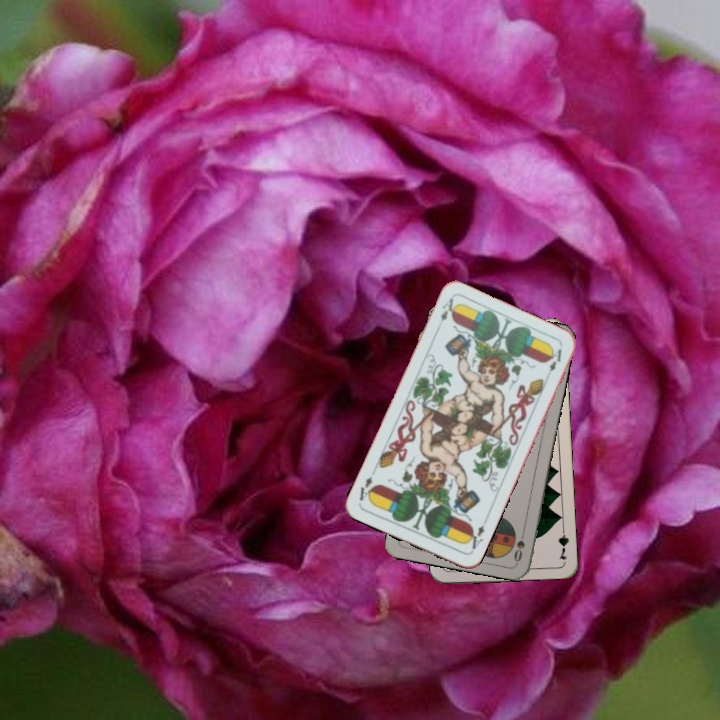EA: (463, 516, 490, 552), (434, 294, 459, 332)
G7: (554, 522, 571, 562)
SO: (510, 524, 528, 564)
